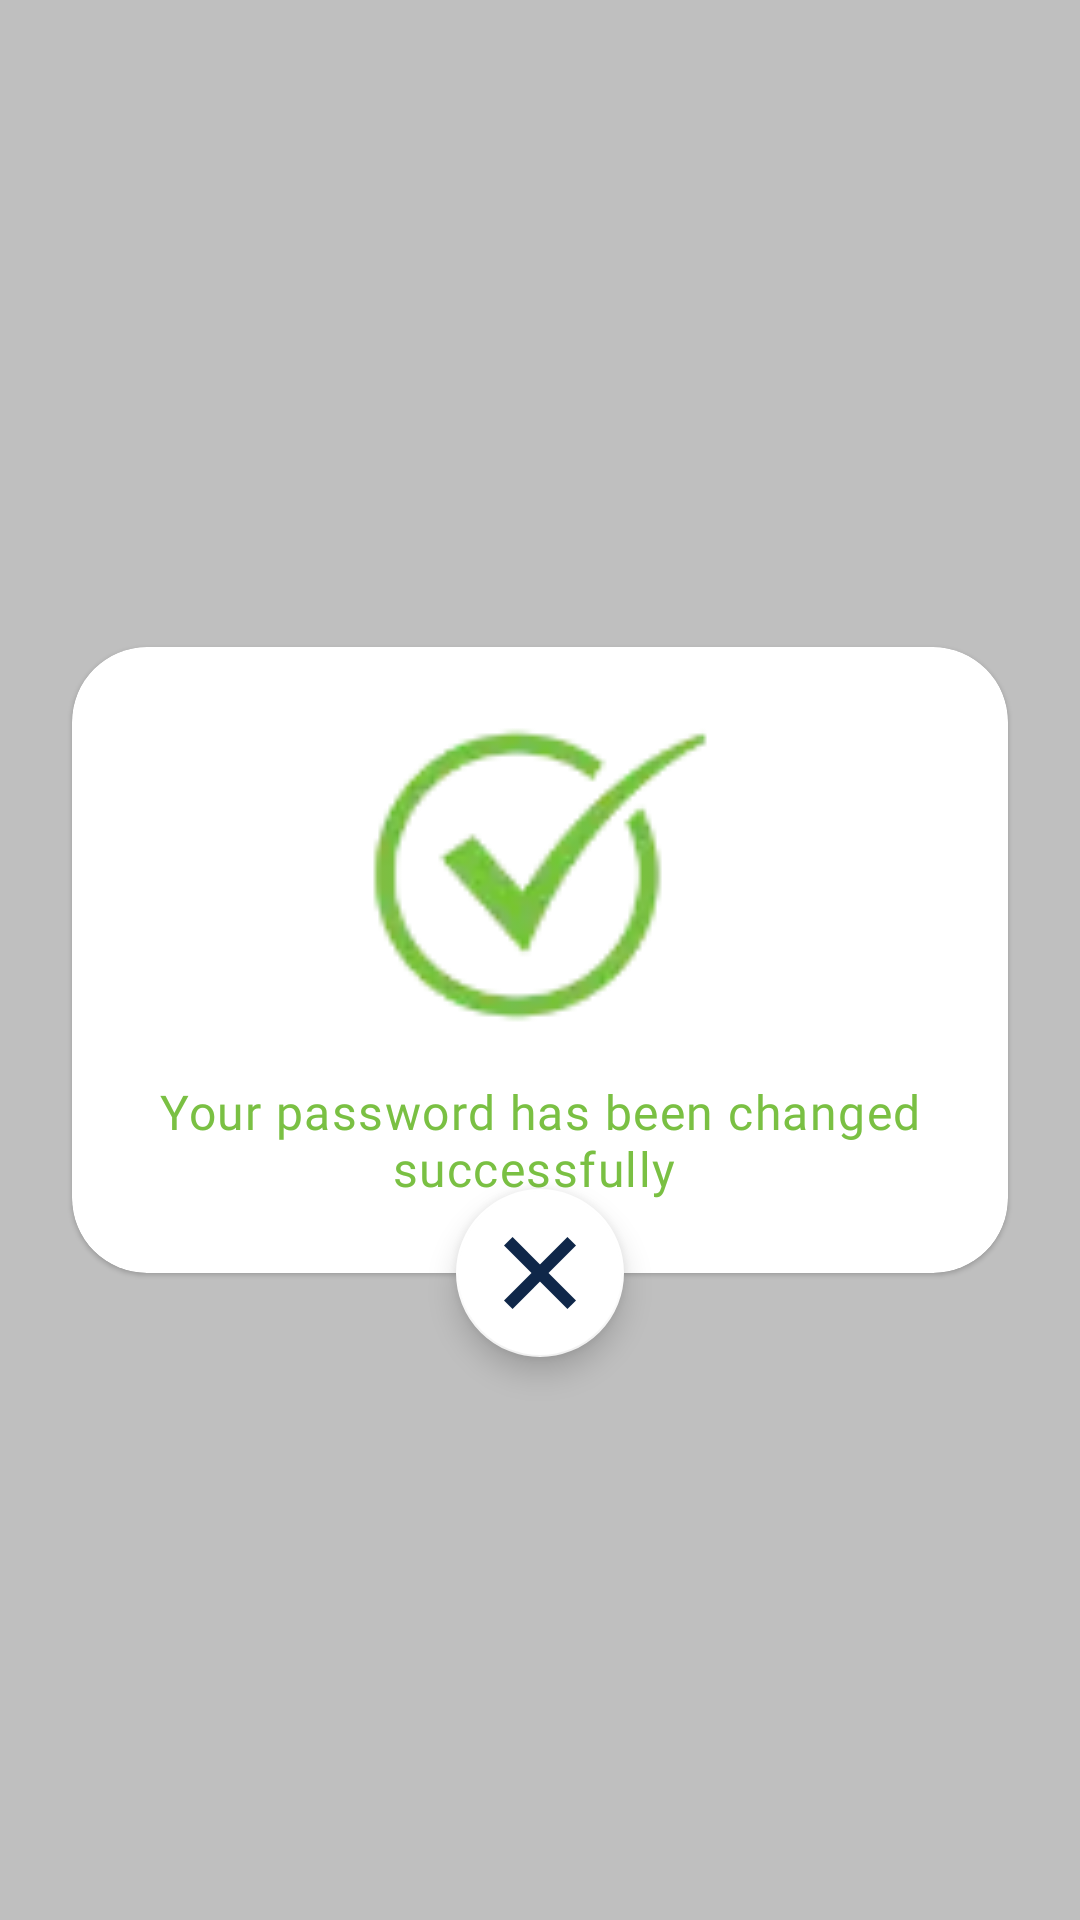

Icon click points for this 1080 × 1920 phone screenshot, format point (x, y):
check: point (540, 875)
close: point (540, 1273)
